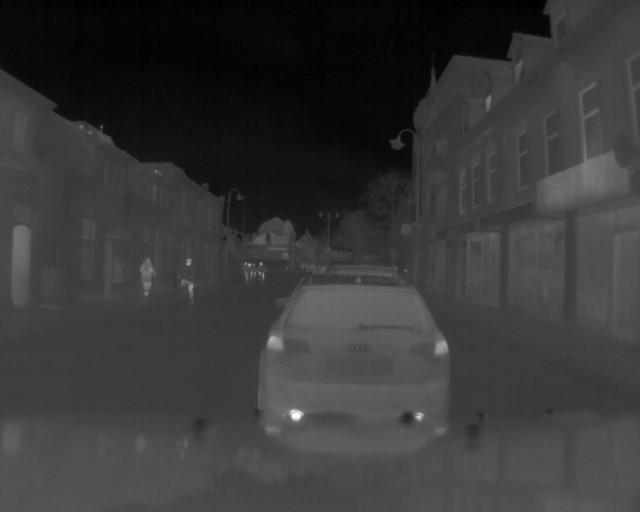car: (255, 274, 452, 434)
person: (177, 255, 199, 305), (137, 255, 157, 301), (256, 259, 267, 284)
